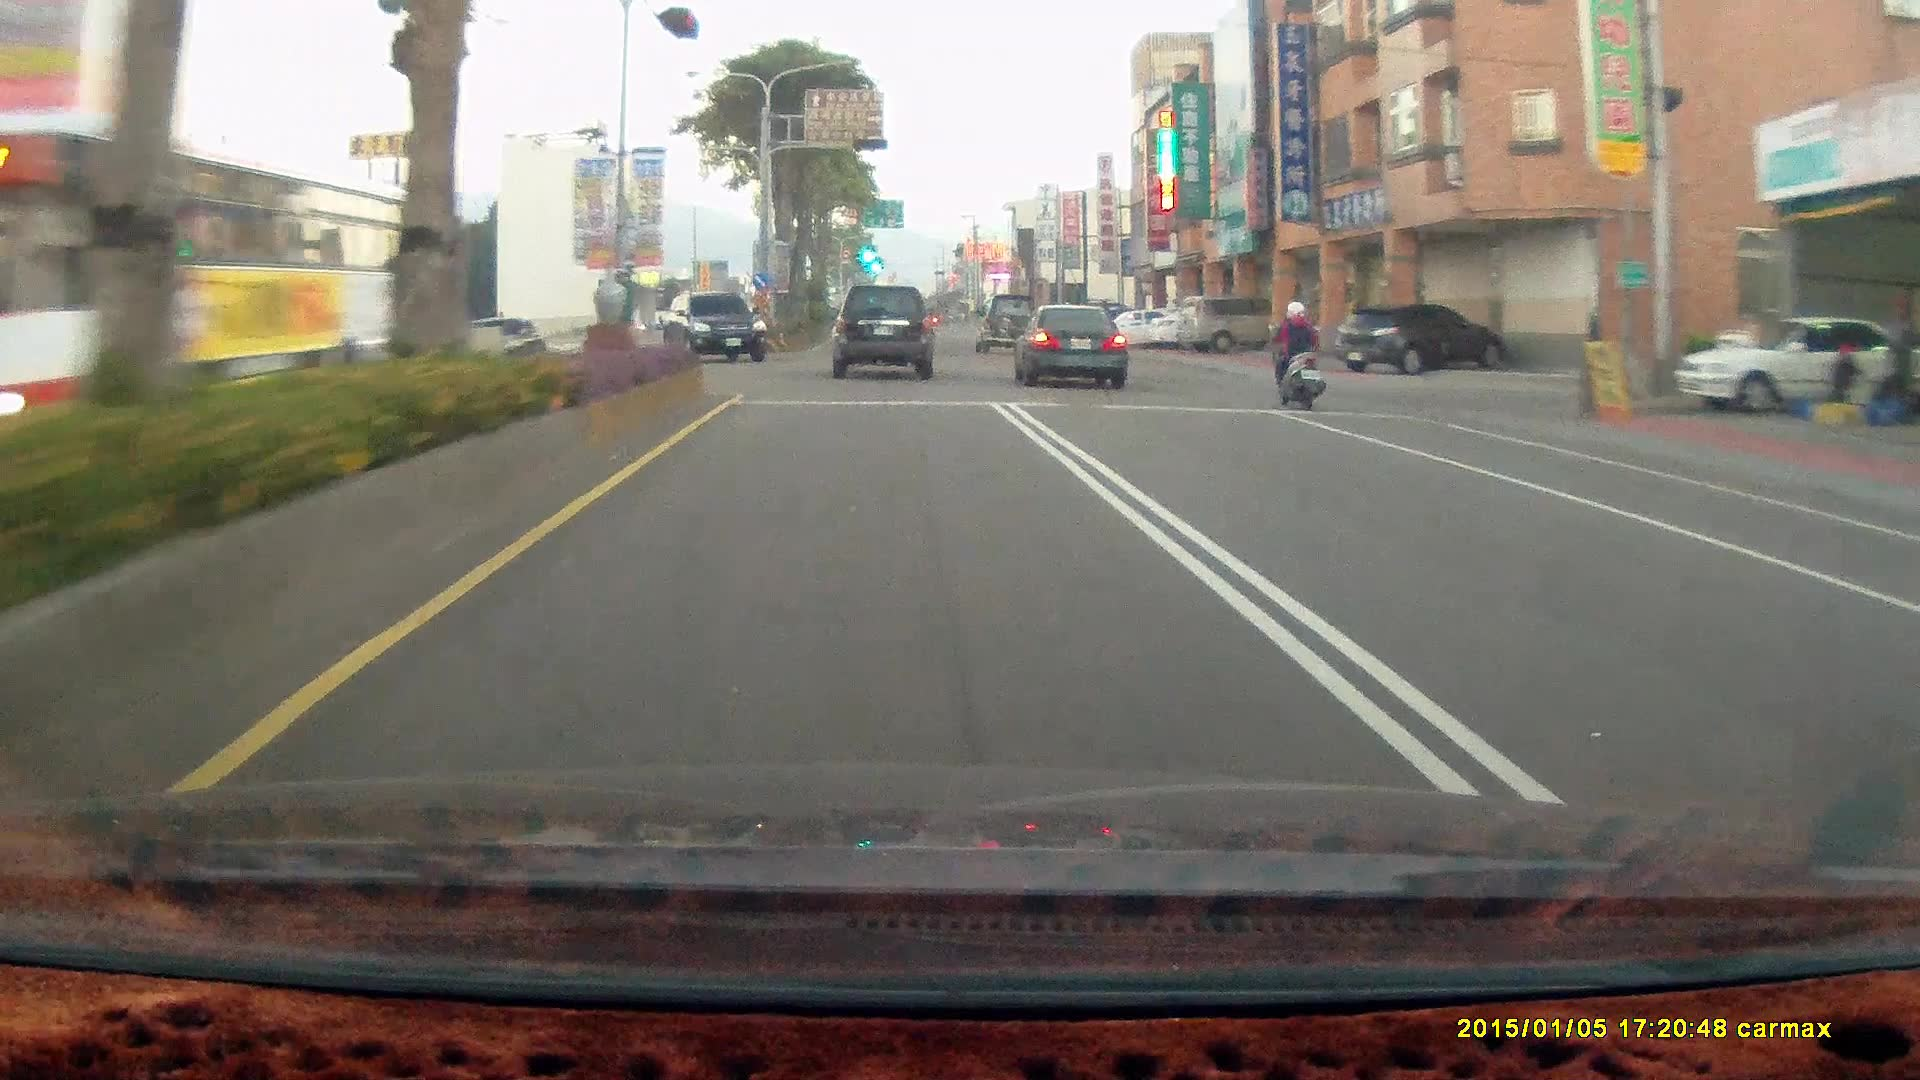pedestrian: (1884, 293, 1916, 417), (1827, 337, 1859, 411)
rider: (1257, 289, 1336, 421), (1267, 299, 1325, 408)
vehicle: (0, 107, 459, 458), (20, 120, 433, 421), (1672, 313, 1912, 413), (1678, 313, 1913, 414), (1330, 302, 1505, 373), (1334, 300, 1504, 370), (1011, 298, 1130, 387), (1008, 299, 1127, 385), (831, 281, 937, 376), (830, 282, 932, 377), (662, 291, 768, 364), (661, 288, 767, 359), (1173, 293, 1288, 353), (1175, 295, 1280, 354), (459, 315, 545, 373), (972, 289, 1039, 351), (1097, 305, 1184, 347)
